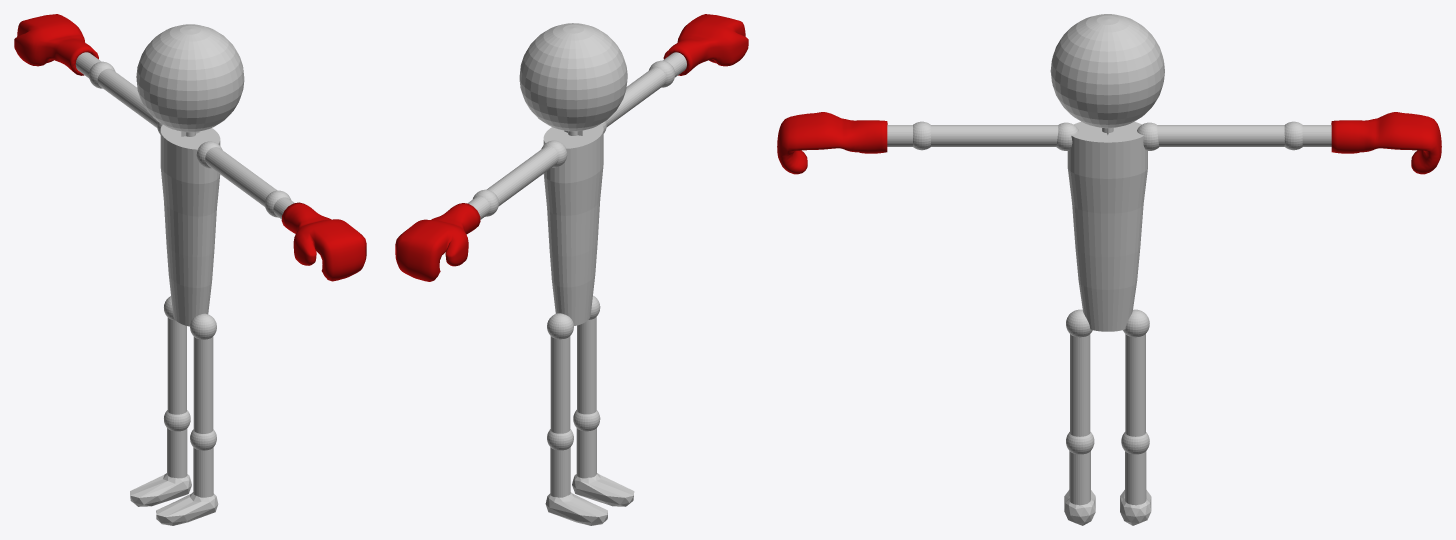
Rendered from boxerobj.obj.
3 renders of one model, left to right at view 1: azimuth 30°, elevation 25°; view 2: azimuth 150°, elevation 25°; view 3: azimuth 270°, elevation 25°, orthographic. The views are drawn at different scales.
Visible parts, largest first — view 1: Sphere, Cylinder, Cube.001_Cube.002, Cube.002_Cube.001, Cylinder.003, Cylinder.004, Cylinder.007, Icosphere.001, Icosphere, Cylinder.001, Cylinder.005, Cylinder.006 (+3 smaller); view 2: Sphere, Cylinder, Cube.002_Cube.001, Cube.001_Cube.002, Cylinder.004, Cylinder.003, Cylinder.001, Icosphere, Icosphere.001, Cylinder.007, Cylinder.006, Cylinder.005 (+3 smaller); view 3: Cylinder, Sphere, Cube.001_Cube.002, Cube.002_Cube.001, Cylinder.001, Cylinder.007, Cylinder.003, Cylinder.004, Cylinder.006, Cylinder.005.
Boxes of the visible parts, <box> form: Sphere: <box>136,24,244,136</box>; Cylinder: <box>160,125,220,326</box>; Cube.001_Cube.002: <box>281,202,366,281</box>; Cube.002_Cube.001: <box>14,14,98,75</box>; Cylinder.003: <box>193,336,213,433</box>; Cylinder.004: <box>167,317,186,414</box>; Cylinder.007: <box>205,147,277,206</box>; Icosphere.001: <box>130,473,191,506</box>; Icosphere: <box>156,492,218,525</box>; Cylinder.001: <box>97,68,157,127</box>; Cylinder.005: <box>193,447,213,497</box>; Cylinder.006: <box>167,428,187,478</box>; Sphere: <box>519,23,627,135</box>; Cylinder: <box>543,124,603,325</box>; Cube.002_Cube.001: <box>395,203,480,281</box>; Cube.001_Cube.002: <box>663,14,748,75</box>; Cylinder.004: <box>550,336,570,433</box>; Cylinder.003: <box>577,317,596,414</box>; Cylinder.001: <box>486,146,558,205</box>; Icosphere: <box>572,473,634,506</box>; Icosphere.001: <box>545,492,607,525</box>; Cylinder.007: <box>606,67,666,126</box>; Cylinder.006: <box>550,447,570,497</box>; Cylinder.005: <box>576,428,596,478</box>; Cylinder: <box>1067,121,1147,331</box>; Sphere: <box>1050,14,1164,134</box>; Cube.001_Cube.002: <box>777,112,887,174</box>; Cube.002_Cube.001: <box>1331,112,1441,174</box>; Cylinder.001: <box>1157,125,1284,146</box>; Cylinder.007: <box>931,125,1058,146</box>; Cylinder.003: <box>1070,334,1090,436</box>; Cylinder.004: <box>1125,334,1145,436</box>; Cylinder.006: <box>1125,451,1146,505</box>; Cylinder.005: <box>1069,451,1090,505</box>.
Bounding box in the file's own units: 2 × 9.76 × 11.62.
